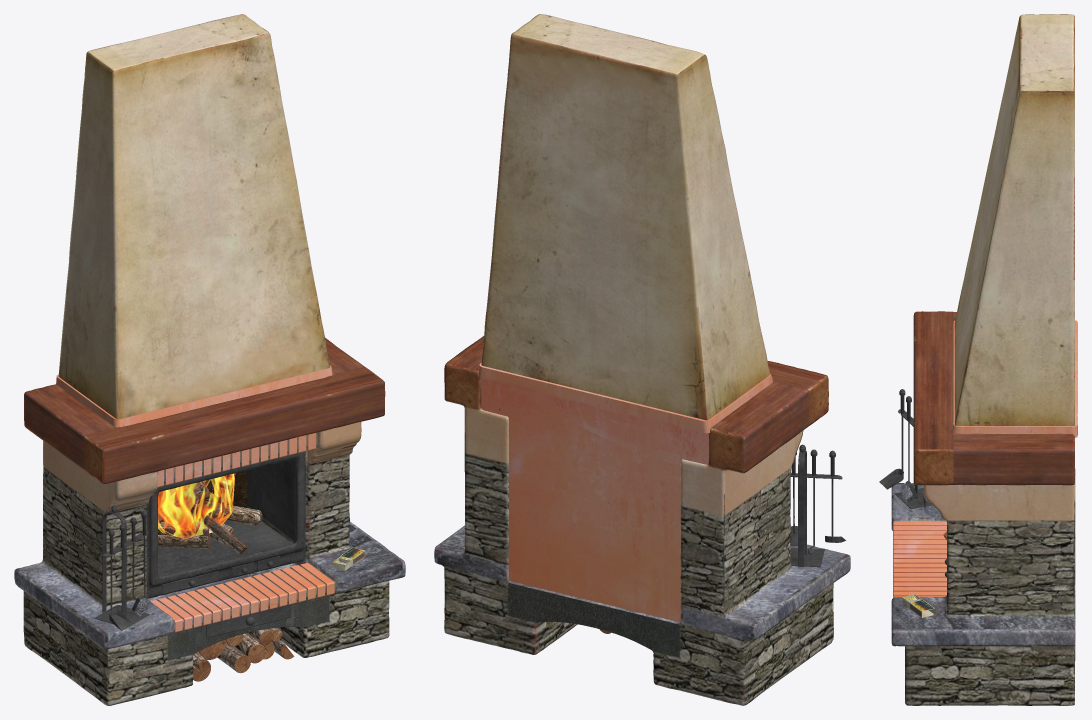
3 renders of one model, left to right at view 1: azimuth 30°, elevation 25°; view 2: azimuth 150°, elevation 25°; view 3: azimuth 270°, elevation 25°, orthographic. The views are drawn at different scales.
Parts seen in each view (by area): view 1: LR_A1, Mattoni_A1, Corteccia002, Fire01, CortecciaStoreDown1, Cover, Fire2, Piastra_A1, Cassetto_Giu1, Loa1, arch19_031_06, Piastra_Inside1 (+1 smaller); view 2: LR_A1, Piastra_Back01, Piastra_A1, Cover, arch19_031_06; view 3: LR_A1, Mattoni_A1, Cover, arch19_031_07, Rectangle01.
Part boxes in pixels (box(x1,y1,x2,y2)): LR_A1: box(14, 14, 405, 705); Mattoni_A1: box(150, 433, 334, 632); Corteccia002: box(158, 481, 262, 554); Fire01: box(158, 473, 235, 535); CortecciaStoreDown1: box(193, 627, 294, 681); Cover: box(56, 365, 332, 427); Fire2: box(158, 475, 229, 538); Piastra_A1: box(168, 595, 329, 657); Cassetto_Giu1: box(206, 604, 291, 637); Loa1: box(162, 556, 279, 594); arch19_031_06: box(102, 511, 126, 616); Piastra_Inside1: box(162, 470, 247, 522); LR_A1: box(434, 14, 850, 705); Piastra_Back01: box(481, 378, 708, 622); Piastra_A1: box(508, 583, 679, 656); Cover: box(478, 363, 772, 433); arch19_031_06: box(798, 451, 806, 566); LR_A1: box(891, 14, 1075, 705); Mattoni_A1: box(893, 521, 946, 597); Cover: box(952, 320, 1077, 437); arch19_031_07: box(879, 389, 905, 489); Rectangle01: box(909, 599, 934, 617).
Size of the model in its own units: 62.6 by 115 by 35.39.
13 materials, 10 textured.
